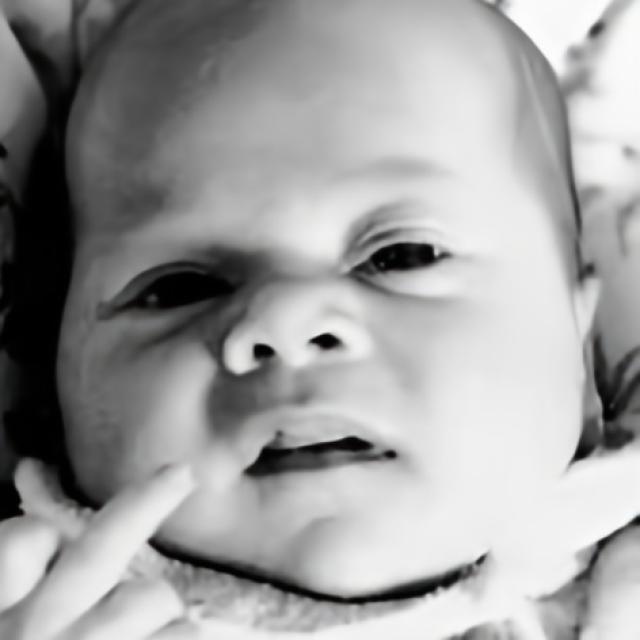disgust: (51, 2, 586, 596)
